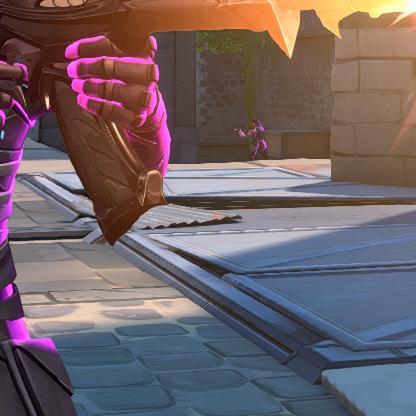enemyBody: (255, 128, 262, 137)
enemyHead: (253, 120, 258, 125)
